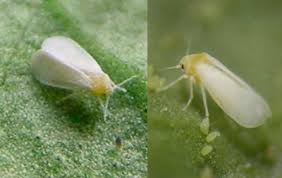Tobacco Whitefly: (170, 49, 272, 133), (29, 34, 123, 118)
